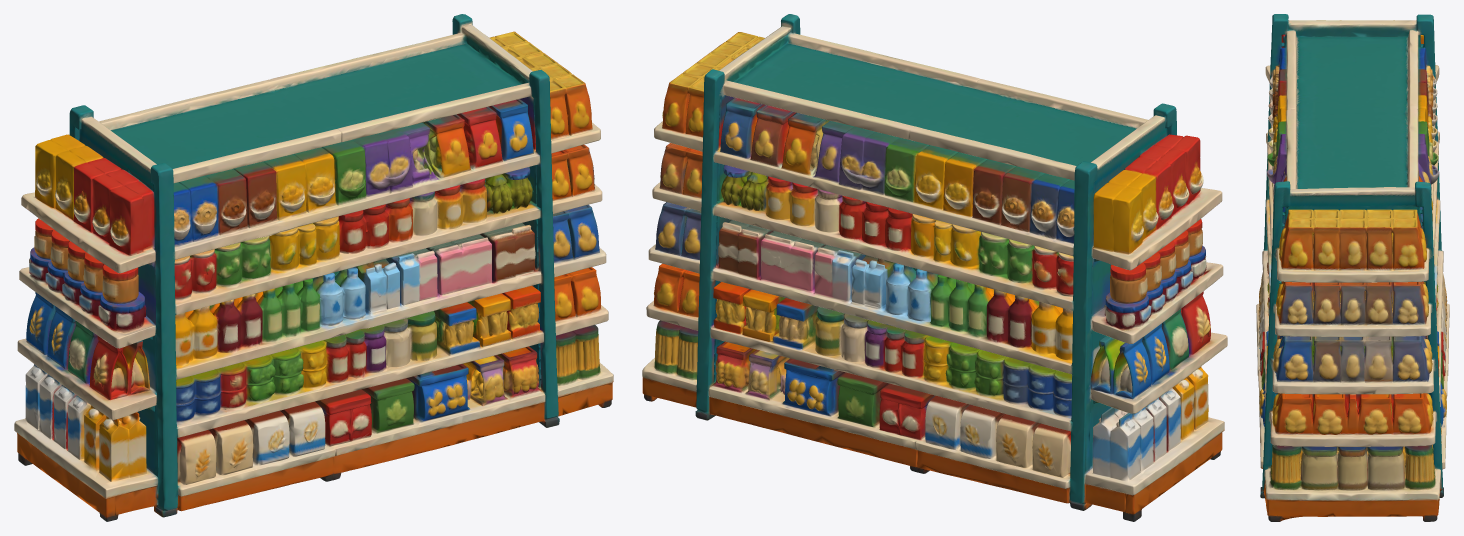
The model's file is GroceryShelf.glb.
3 renders of one model, left to right at view 1: azimuth 30°, elevation 25°; view 2: azimuth 150°, elevation 25°; view 3: azimuth 270°, elevation 25°, orthographic. The views are drawn at different scales.
Parts seen in each view (by area): view 1: tripo_node_69fb567d-37f7-43b9-a241-224228da6f3f; view 2: tripo_node_69fb567d-37f7-43b9-a241-224228da6f3f; view 3: tripo_node_69fb567d-37f7-43b9-a241-224228da6f3f.
Part boxes in pixels (x1,y1,x2,y2): tripo_node_69fb567d-37f7-43b9-a241-224228da6f3f: [14, 14, 613, 521]; tripo_node_69fb567d-37f7-43b9-a241-224228da6f3f: [642, 14, 1227, 521]; tripo_node_69fb567d-37f7-43b9-a241-224228da6f3f: [1256, 14, 1449, 521].
Size of the model in its own units: 0.9795 by 0.6389 by 0.3579.
Materials: 1 (1 with a texture image).
